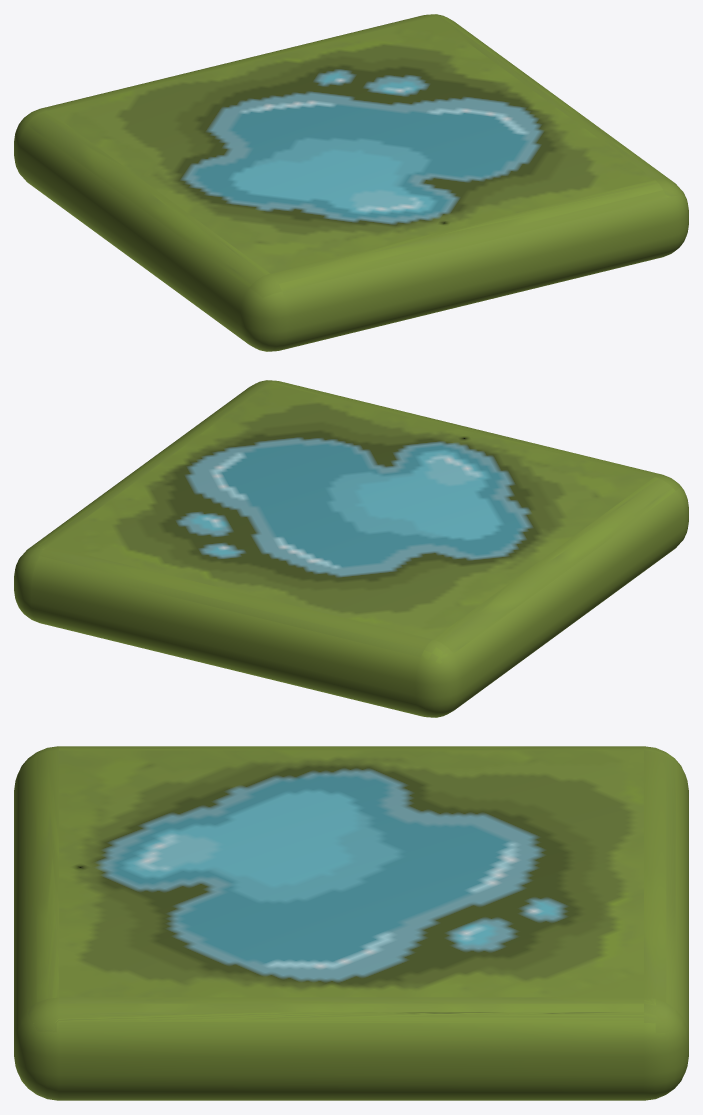
File: tile_flaque.fbx
3 views of the same model, one above another, from view 1: azimuth 30°, elevation 25°; view 2: azimuth 150°, elevation 25°; view 3: azimuth 270°, elevation 25° (orthographic). The views are drawn at different scales.
Visible parts, largest first — view 1: Cube; view 2: Cube; view 3: Cube.
Part boxes in pixels (x1,y1,x2,y2): Cube: (14, 14, 688, 351); Cube: (14, 380, 688, 717); Cube: (14, 746, 688, 1100).
Bounding box in the file's own units: 200 × 32.47 × 200.
